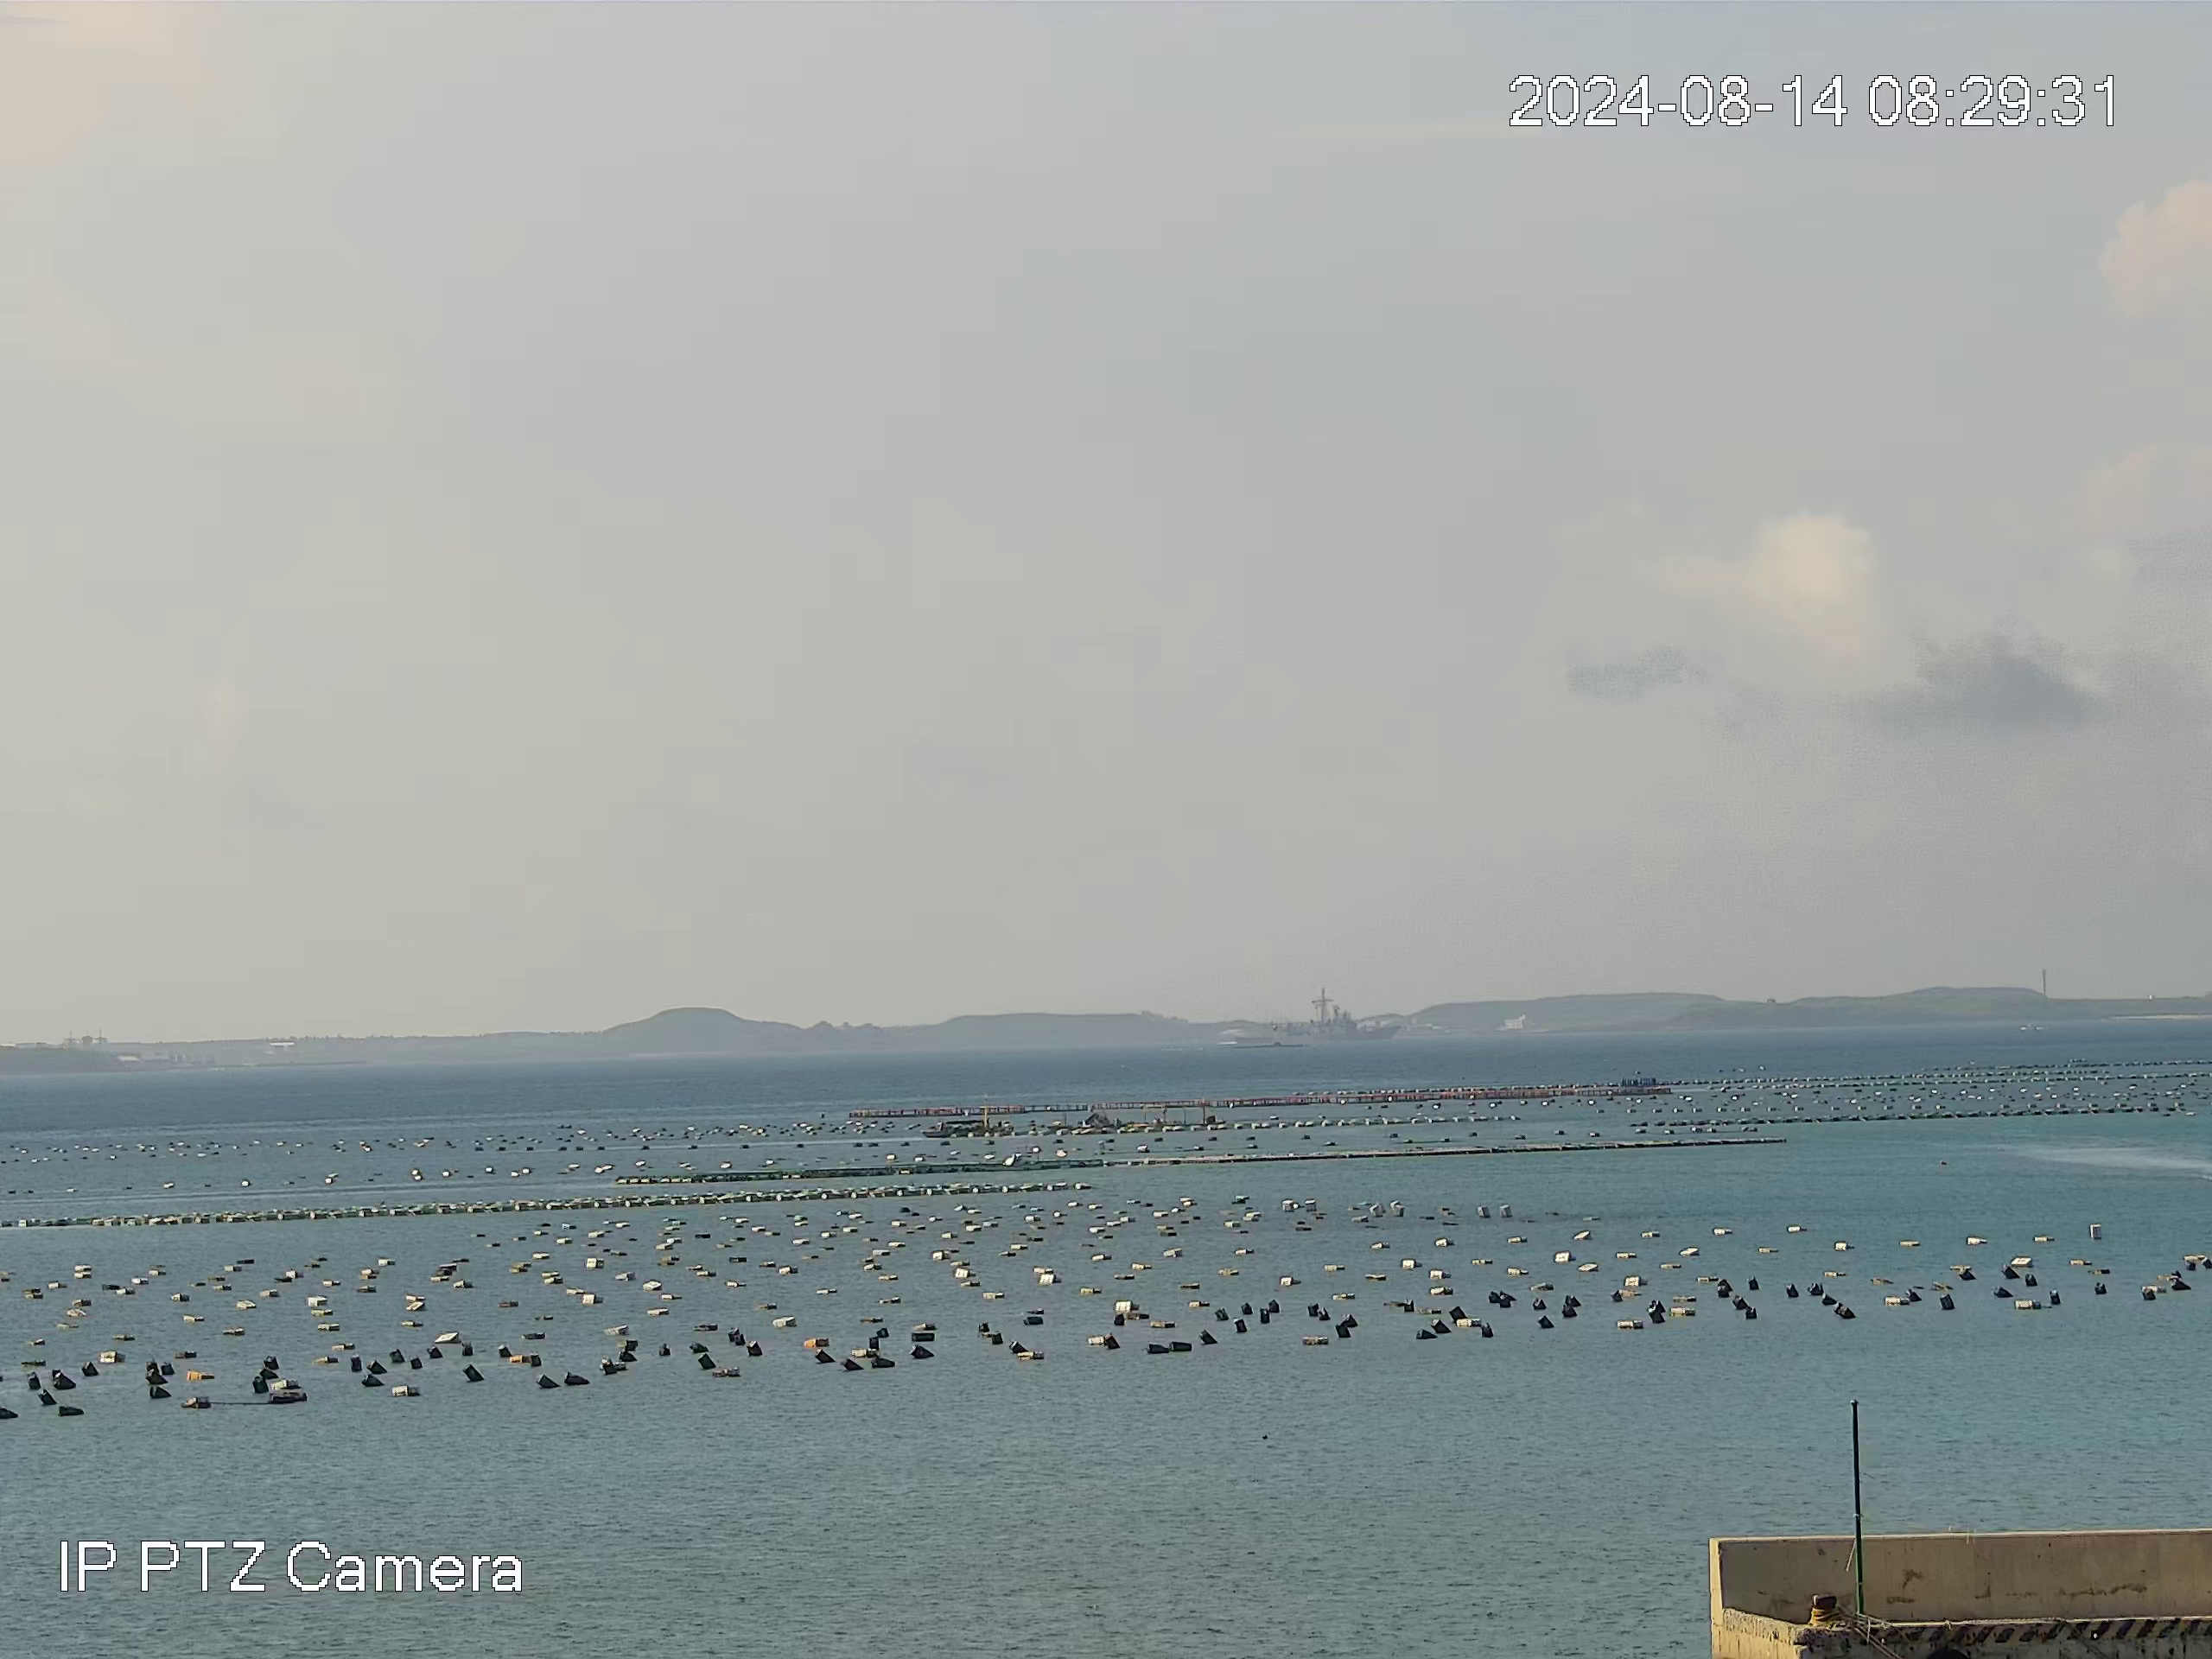boat: (923, 1119, 988, 1140)
